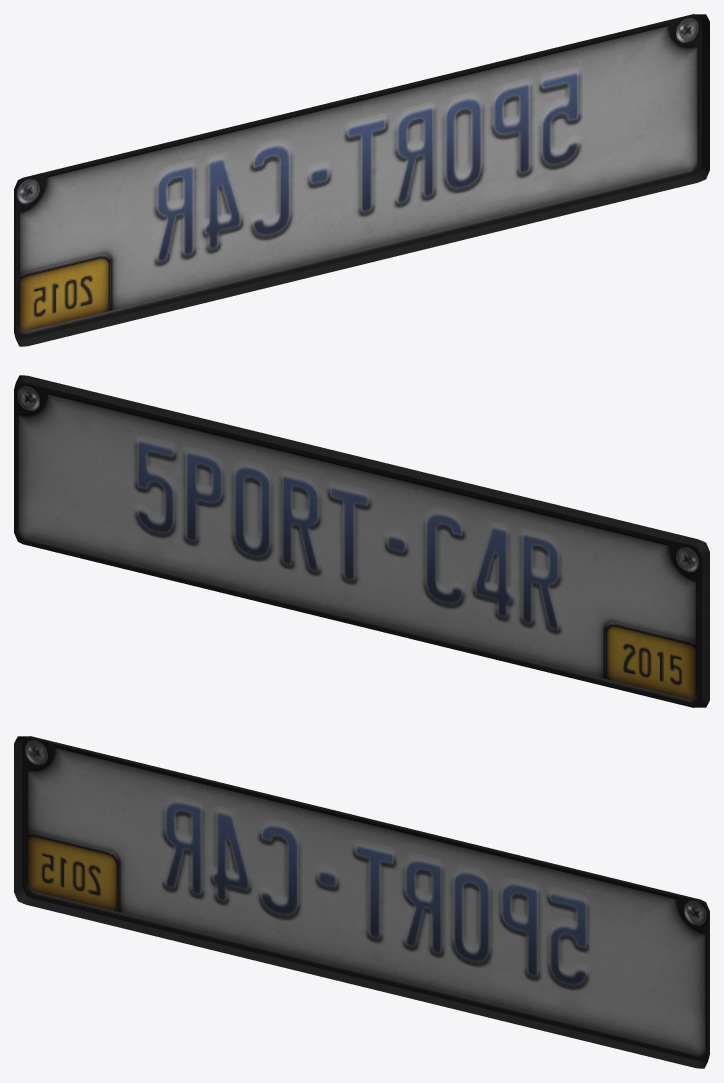
Rendered from RVSport1Plate.fbx.
The picture shows the model from 3 angles, top to bottom: view 1: azimuth 30°, elevation 25°; view 2: azimuth 150°, elevation 25°; view 3: azimuth 330°, elevation 25°; orthographic projection.
Visible parts, largest first — view 1: RVSport1Plate1; view 2: RVSport1Plate1; view 3: RVSport1Plate1.
Part boxes in pixels (x1,y1,x2,y2): RVSport1Plate1: [14, 14, 709, 346]; RVSport1Plate1: [14, 375, 709, 707]; RVSport1Plate1: [14, 736, 709, 1068].
Size of the model in its own units: 43.22 by 9.99 by 0.535.
